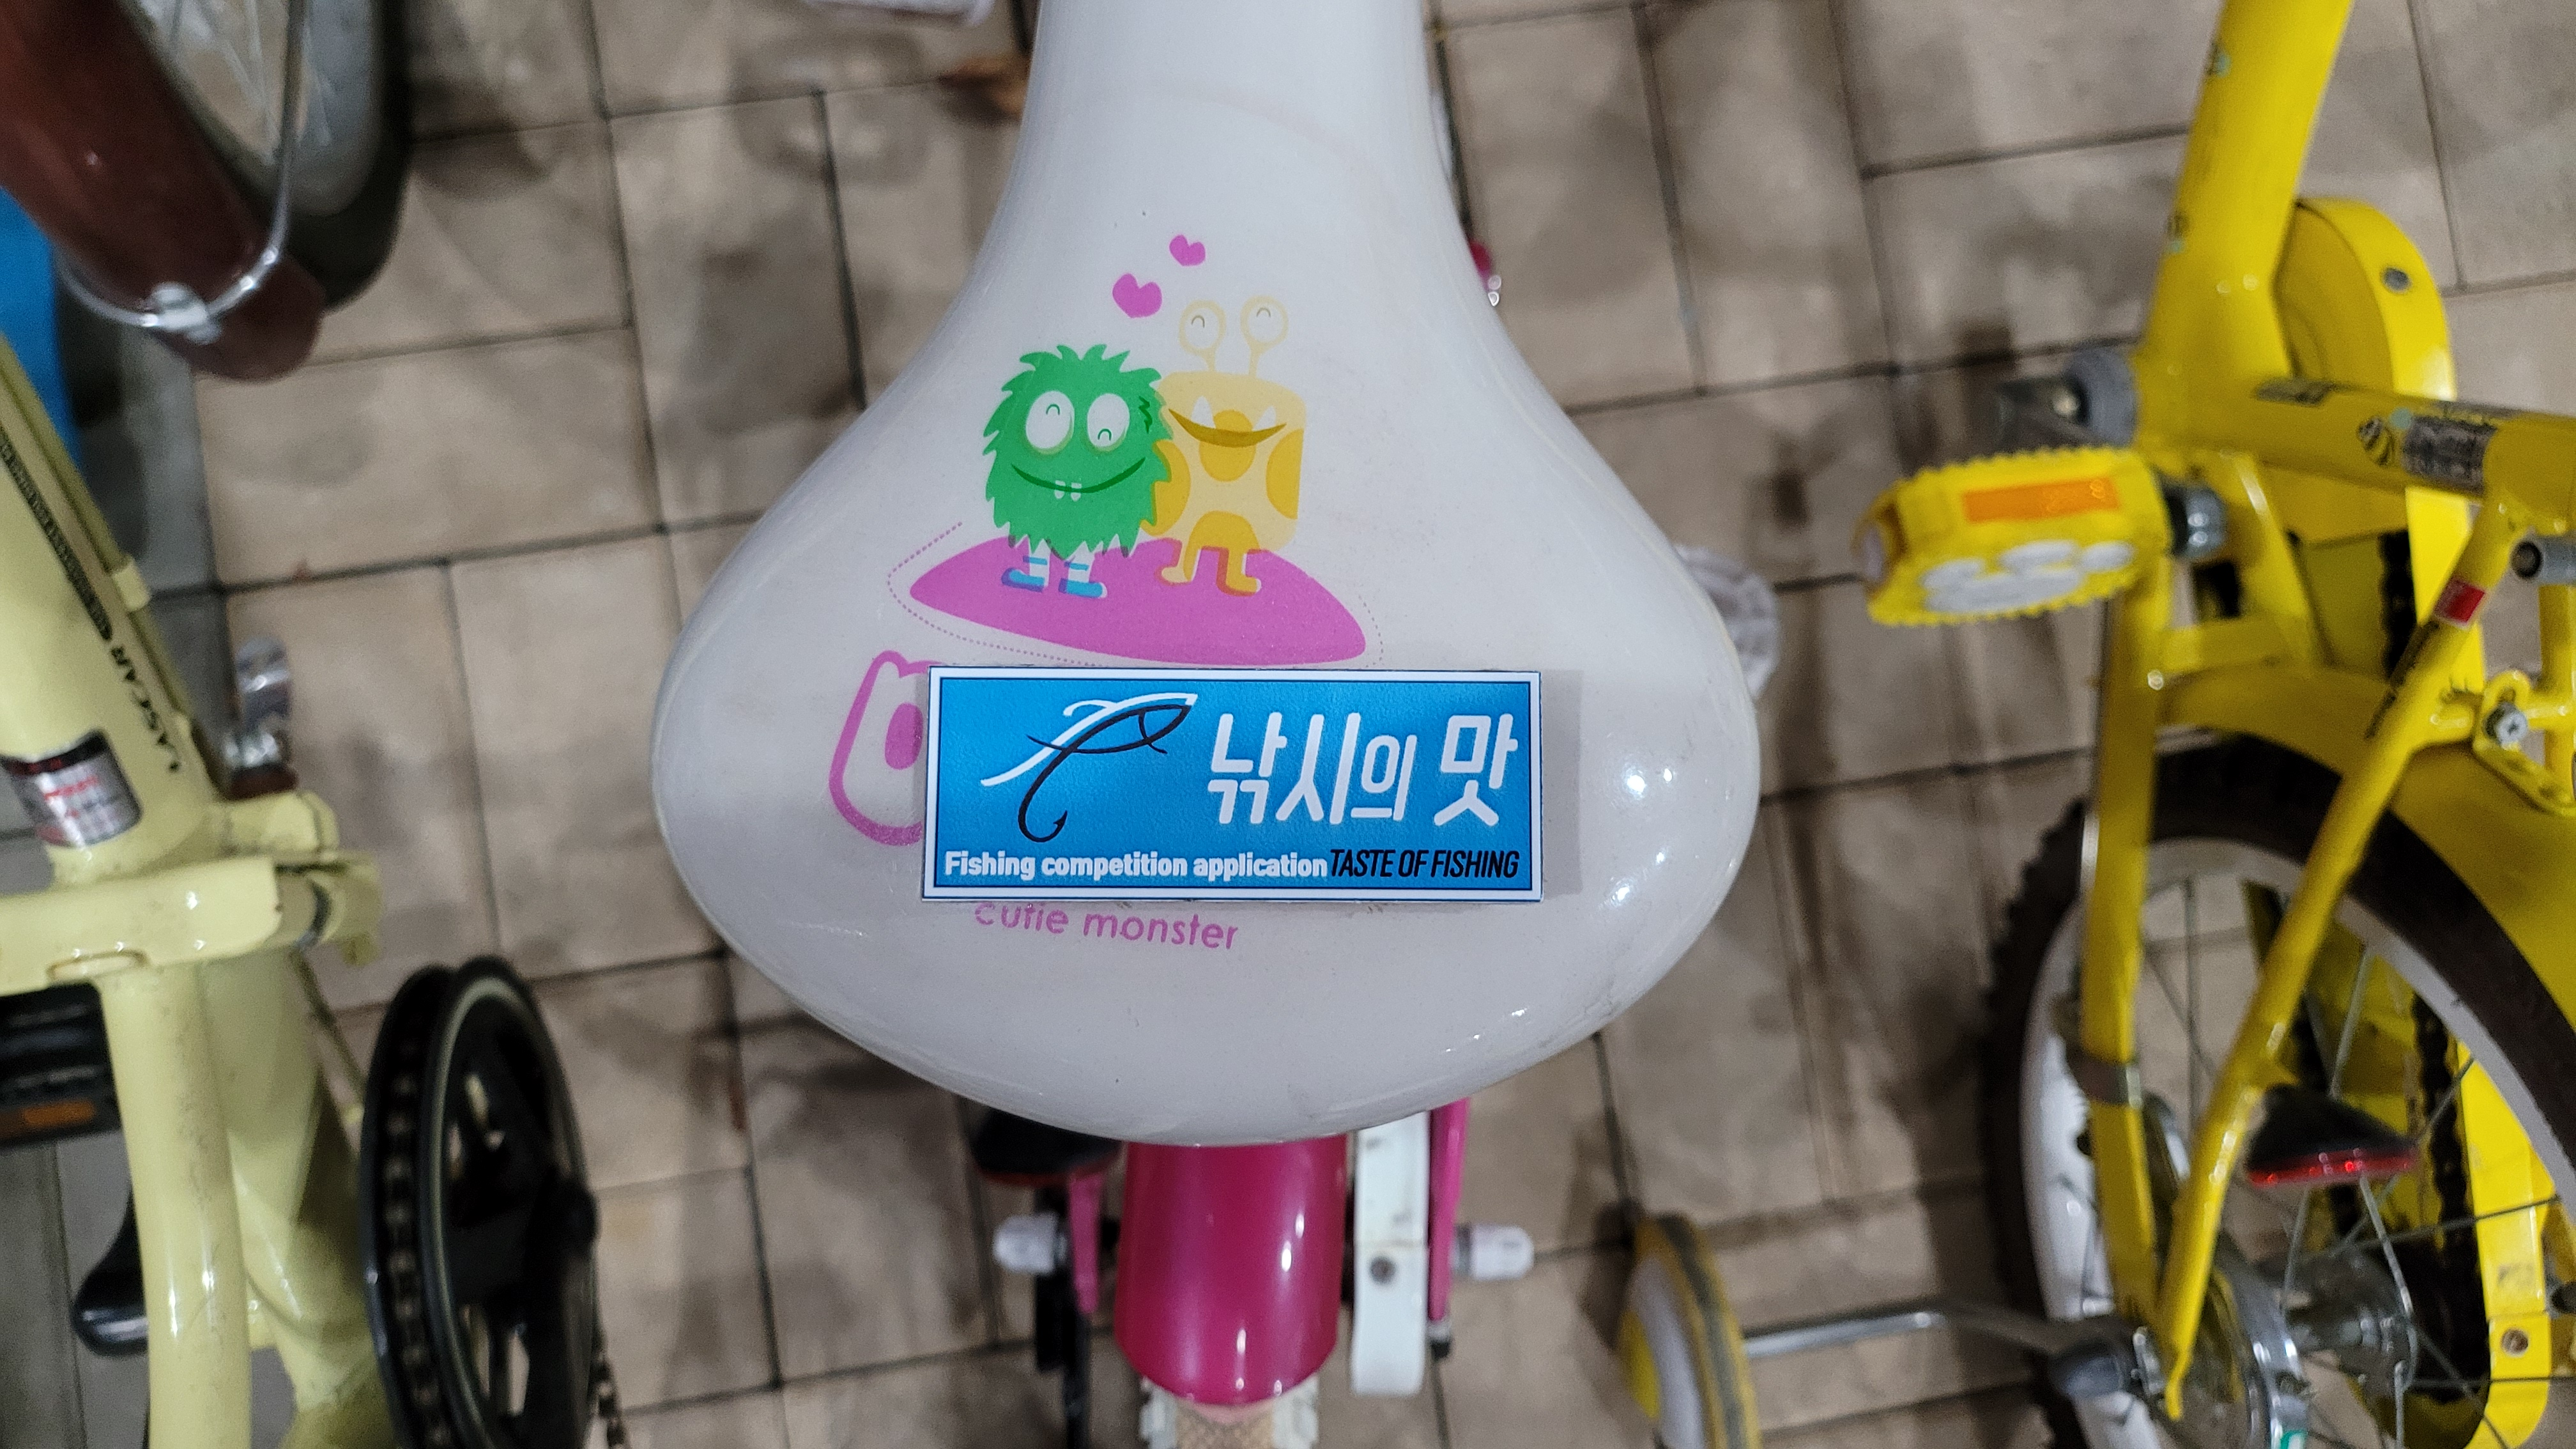tag: (924, 663, 1541, 902)
